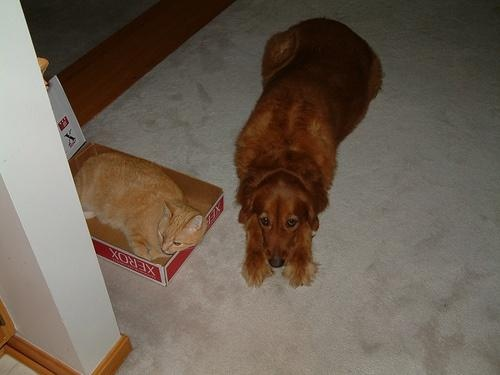cat: (74, 149, 206, 262)
dog: (231, 15, 394, 297)
